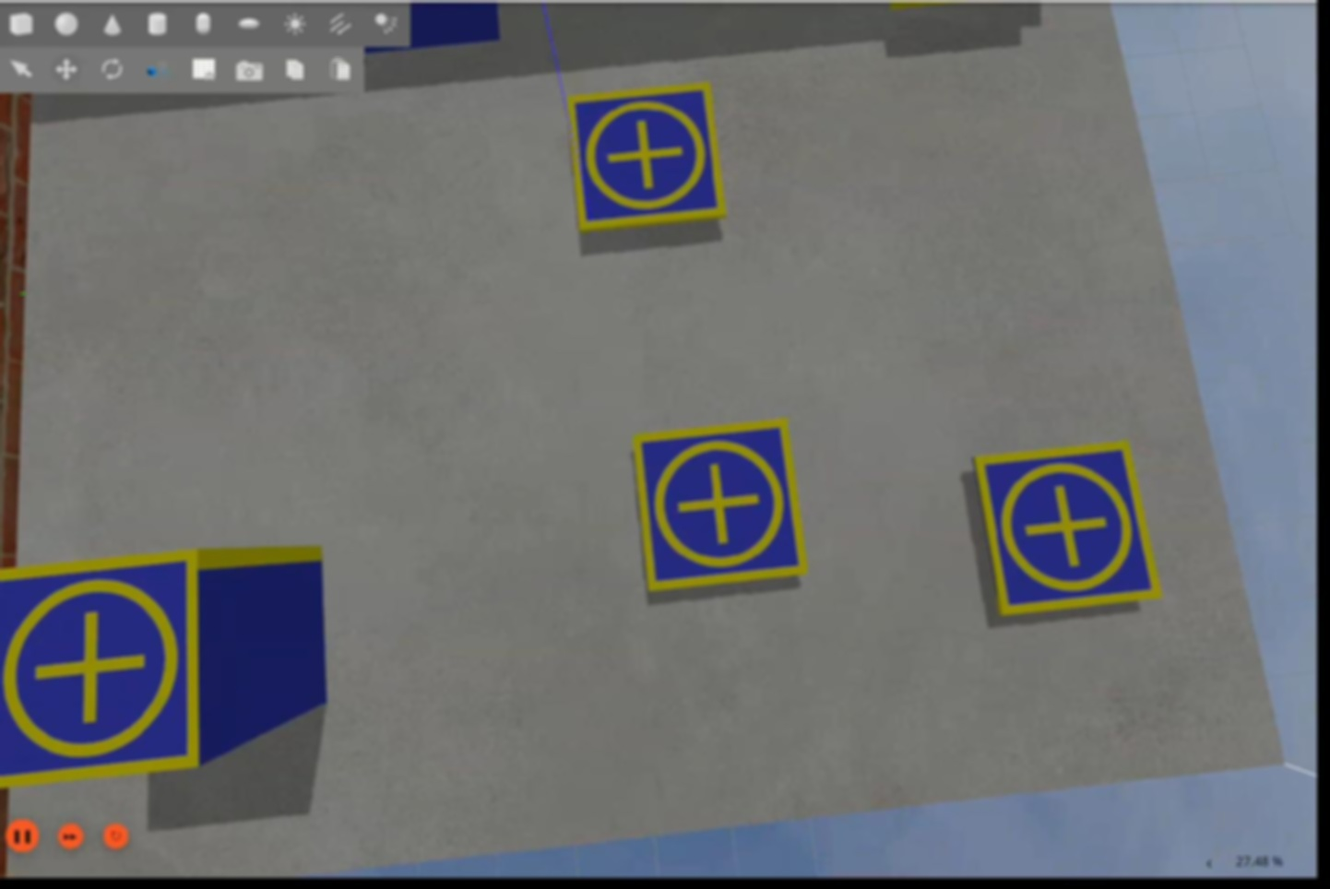small_base: (1, 547, 204, 788), (974, 441, 1164, 617), (632, 419, 812, 595), (567, 85, 730, 232)
